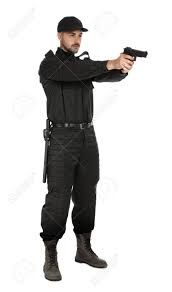gun: (115, 43, 154, 69)
uniform: (43, 49, 98, 255)
